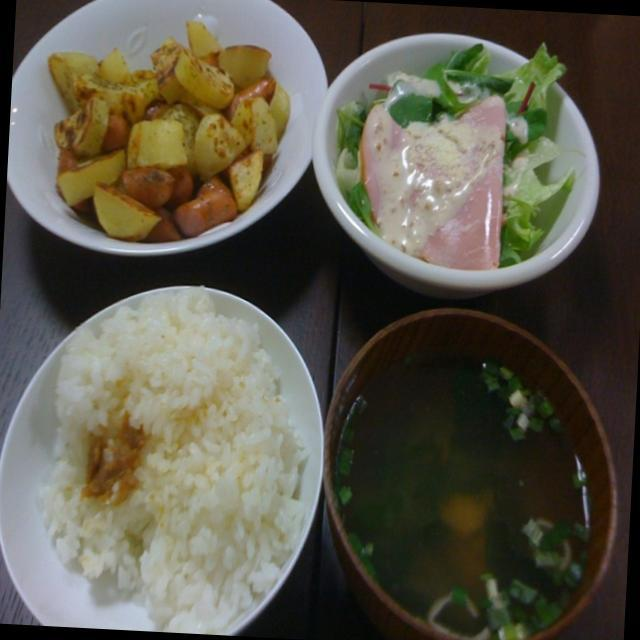Rice: (0, 256, 350, 640)
